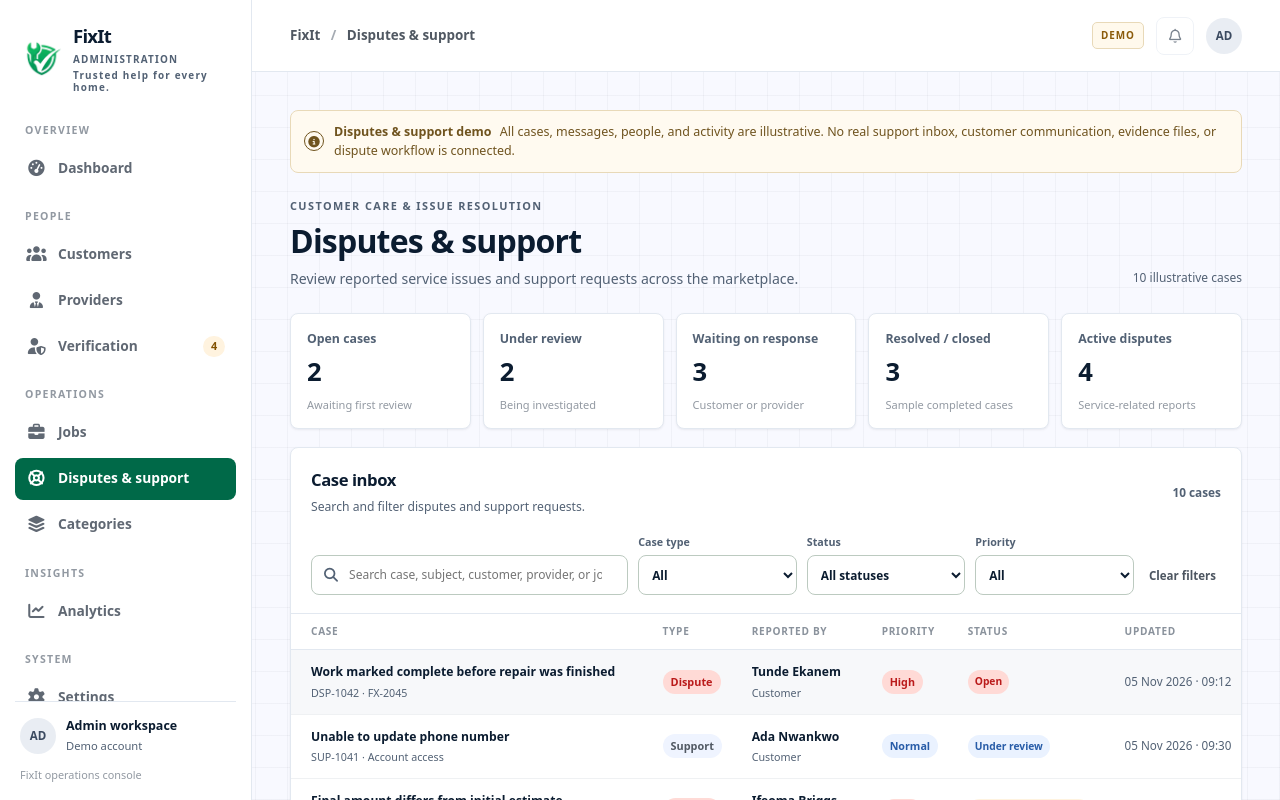
Test: admin disputes and support workspace › shows an empty state and clears filters
Type "not a real case" into the search field named "Search support cases".
click(482, 575); type("not a real case")  # box [347,565,616,585]
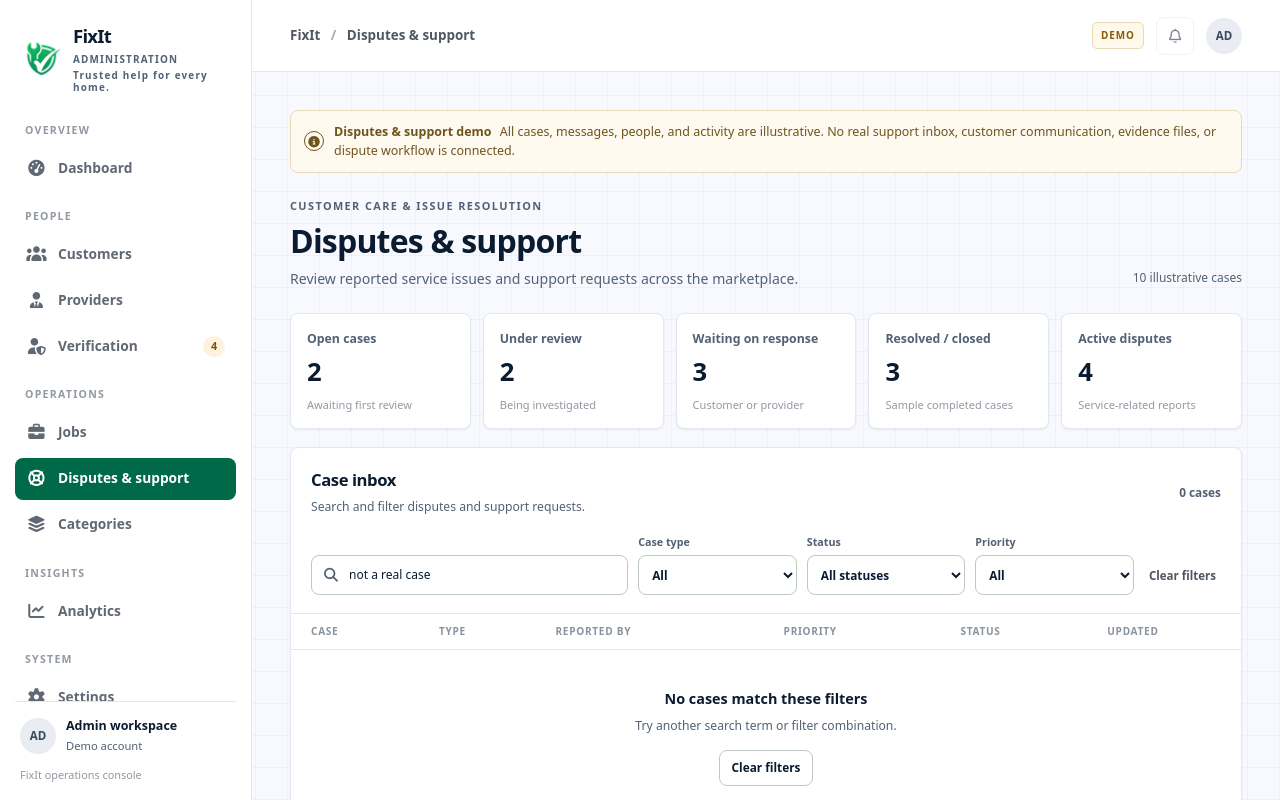
Result: the text "No cases match these filters" is shown at [664,688,868,710]
Click the 1st button "Clear filters".
click(1182, 575)  # box [1144,555,1221,595]
(page scrolled)
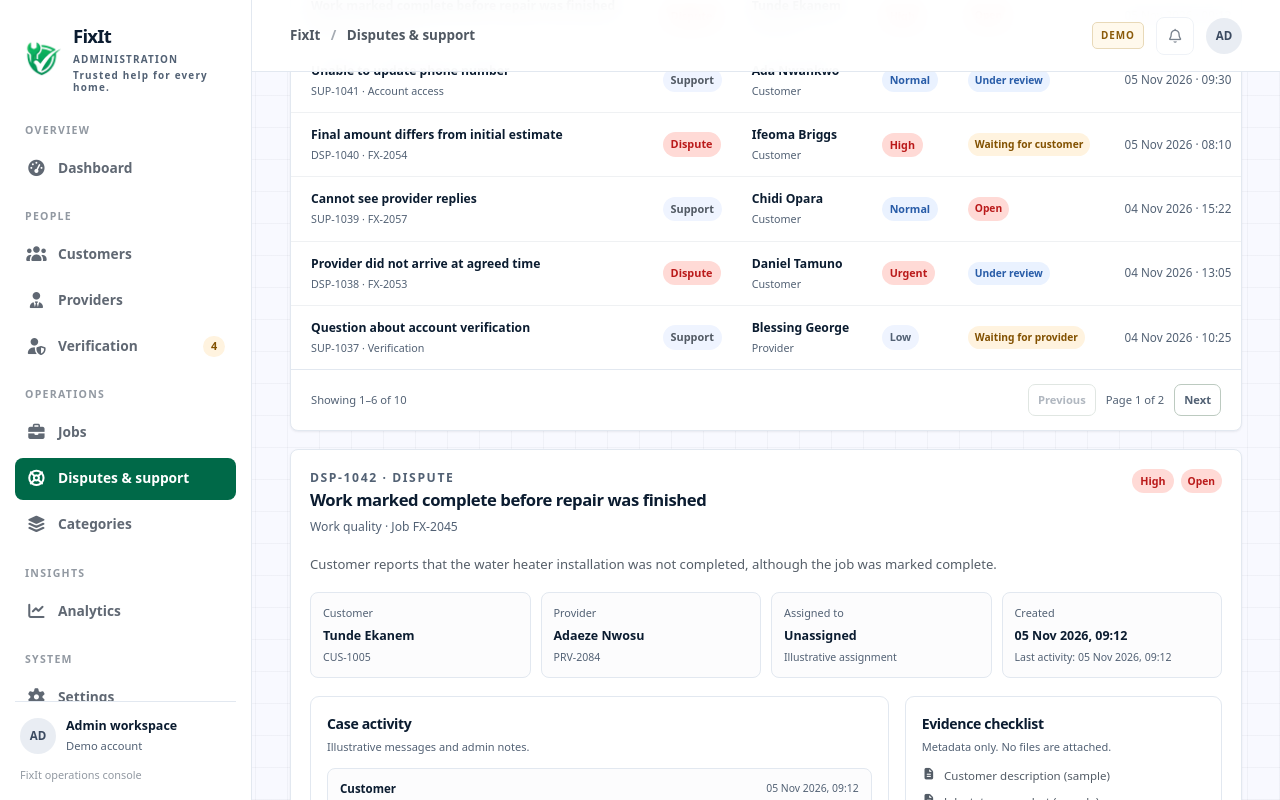
Result: the text "Showing 1–6 of 10" is shown at [311,392,407,409]
